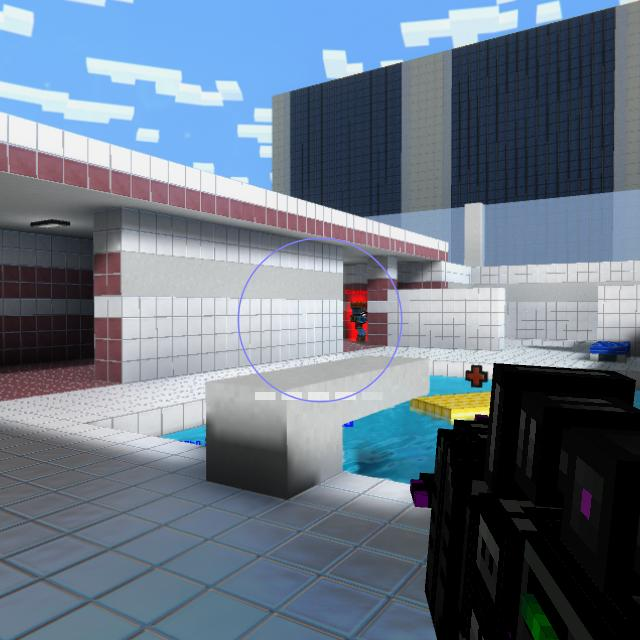Enemy: (350, 301, 368, 342)
